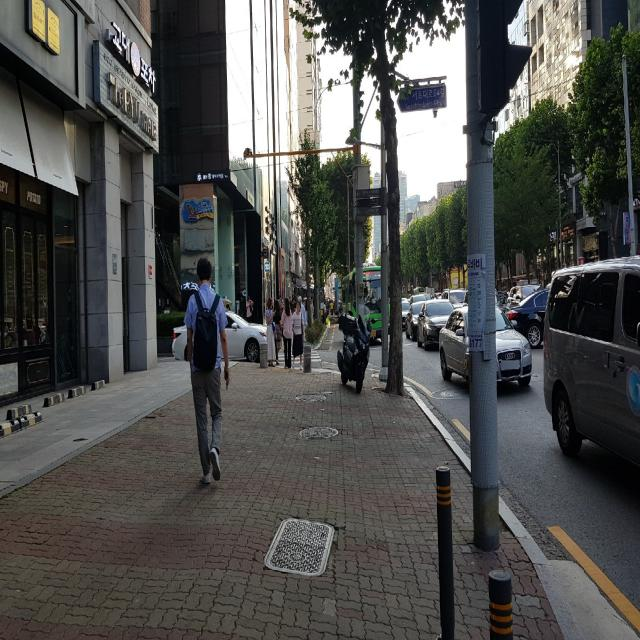횡단보도: (273, 351, 322, 364)
